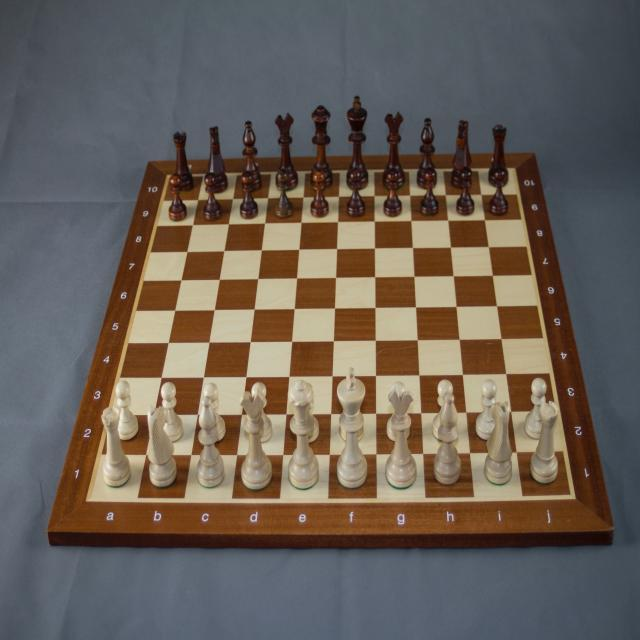chess-table-corners: (74, 482, 102, 511), (566, 486, 584, 509), (510, 164, 520, 179), (163, 170, 173, 183)
